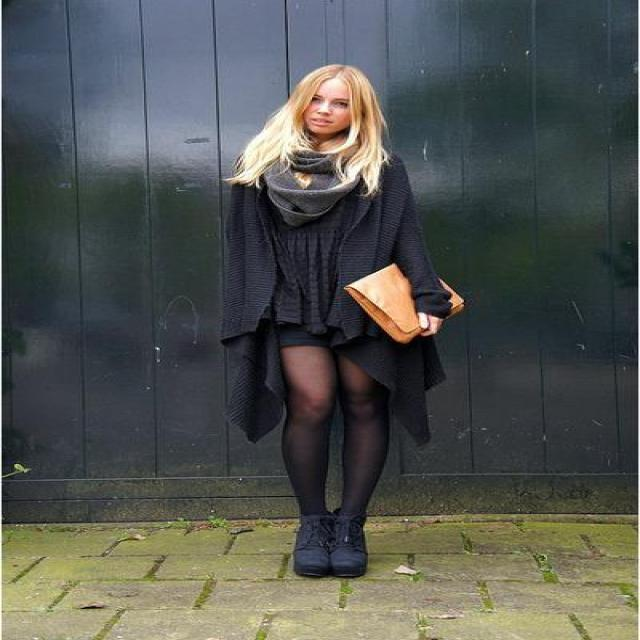bag: (344, 269, 462, 341)
jacket: (218, 156, 462, 442), (259, 175, 379, 338)
shoe: (311, 518, 364, 550)
